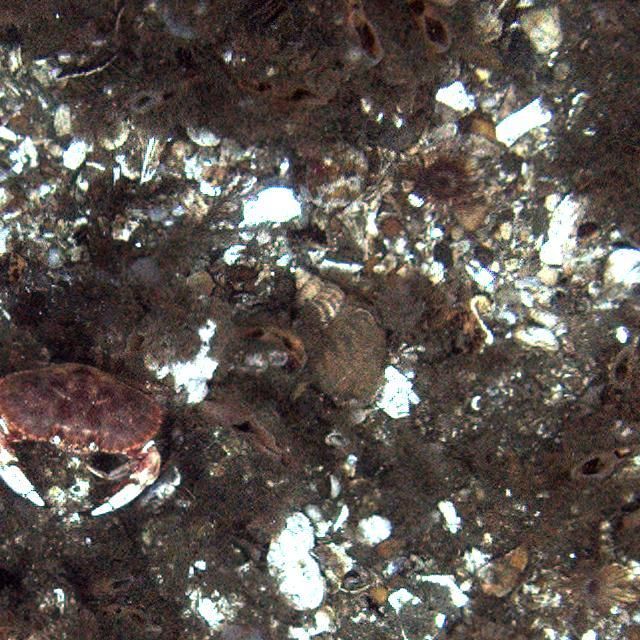whelk: (286, 268, 386, 407)
